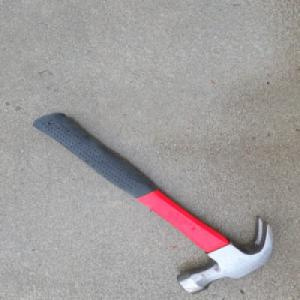Hammer: (26, 105, 270, 284)
